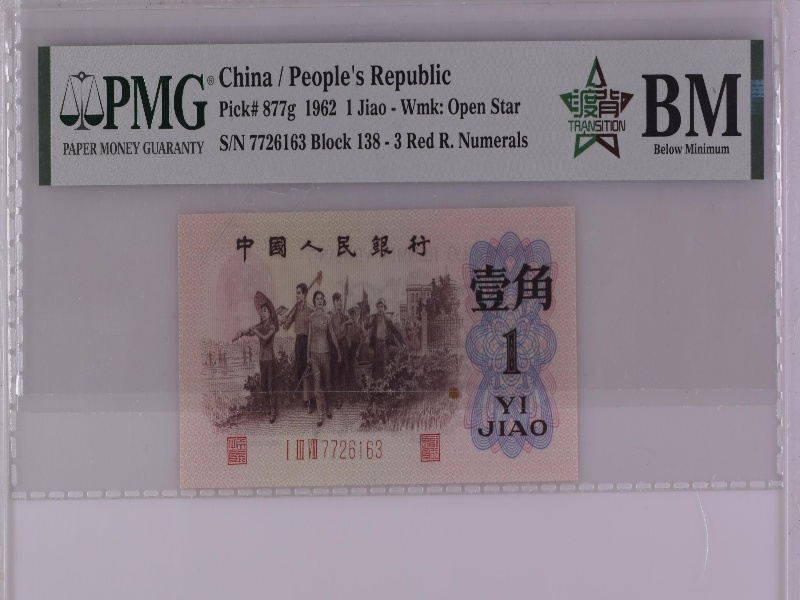papernote: (175, 208, 579, 484)
